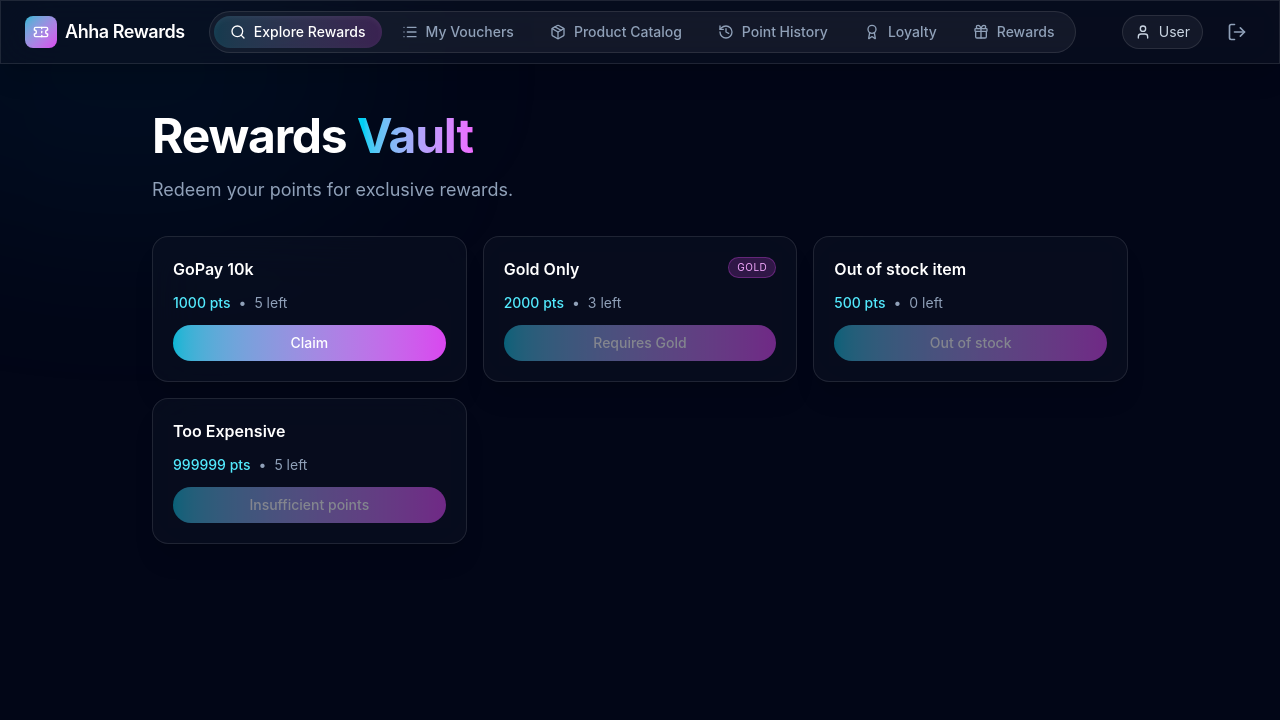
Test: RewardsView › claims a reward and shows the voucher code
Click the button "Claim" at (309, 343), box [173, 325, 446, 361]
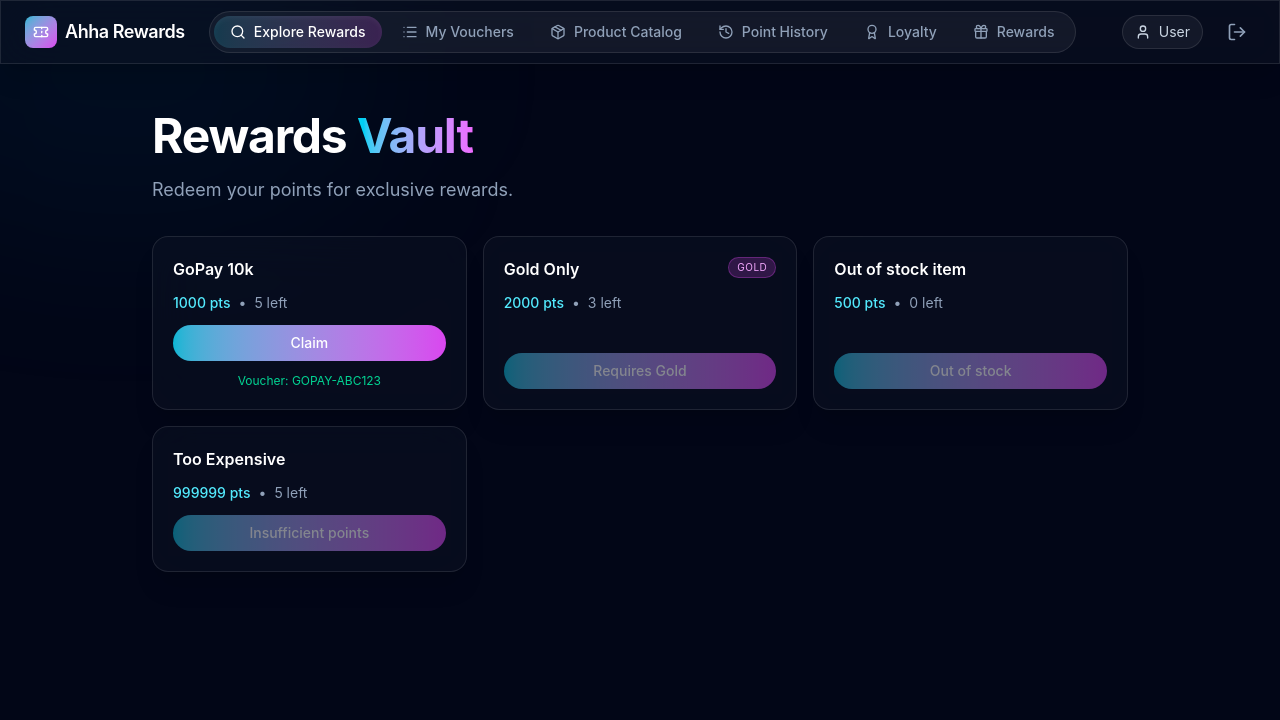
Check: the text "Voucher: GOPAY-ABC123" is shown, box [238, 373, 381, 388]
